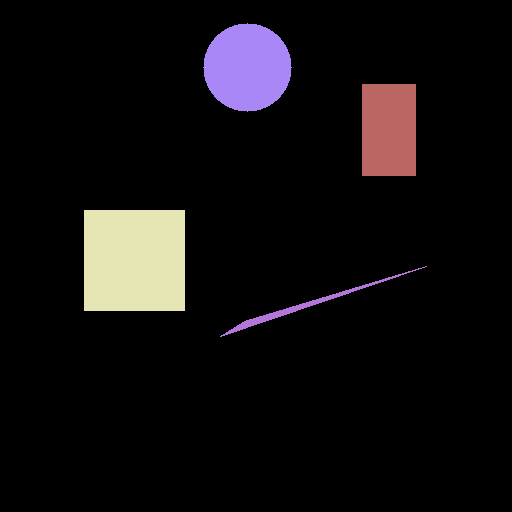circle: (203, 23, 291, 111)
rectangle: (362, 84, 415, 175)
square: (84, 210, 184, 310)
